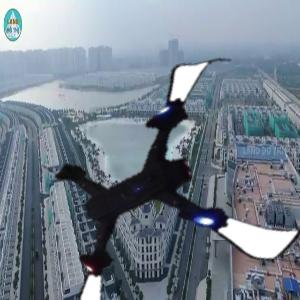drone: (44, 57, 288, 300)
